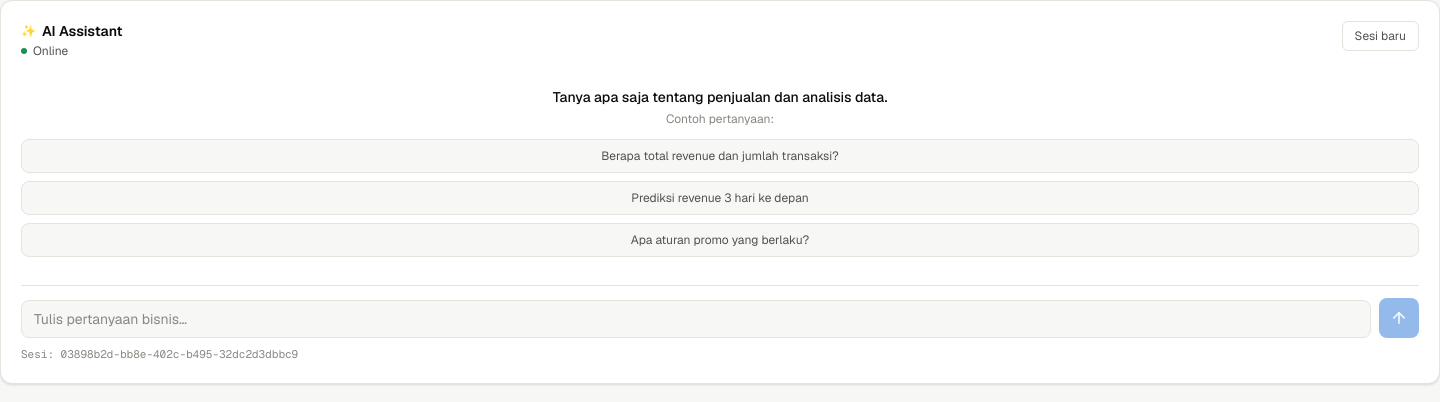
it: ChatPanel › error 503 llm_not_configured tampil sebagai alert, thread tetap
In the field named "Pertanyaan untuk AI assistant": (696, 319) [21,300,1371,338], type "total revenue?"
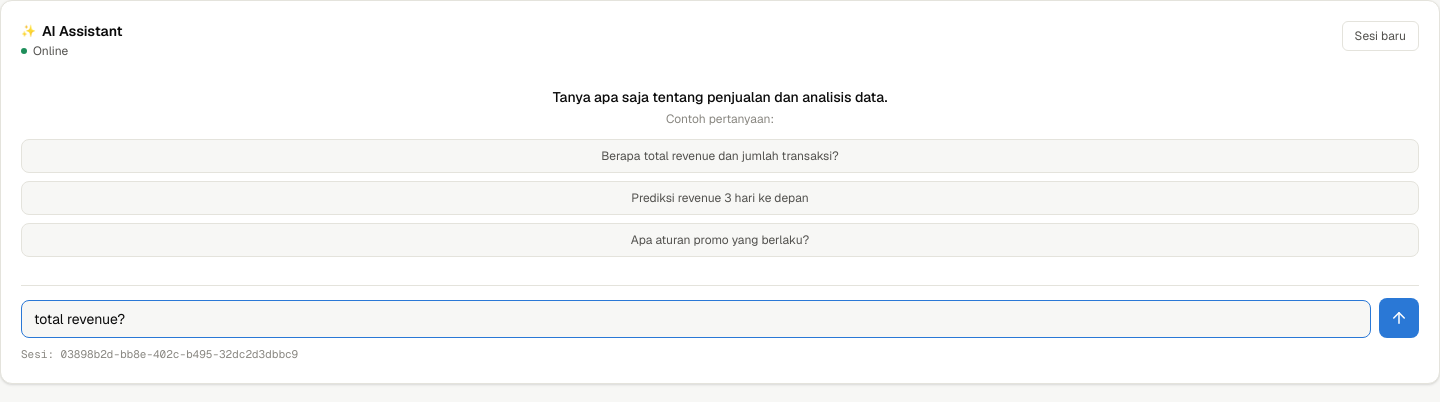
Click the button named "Kirim": (1399, 318) [1379,298,1419,338]
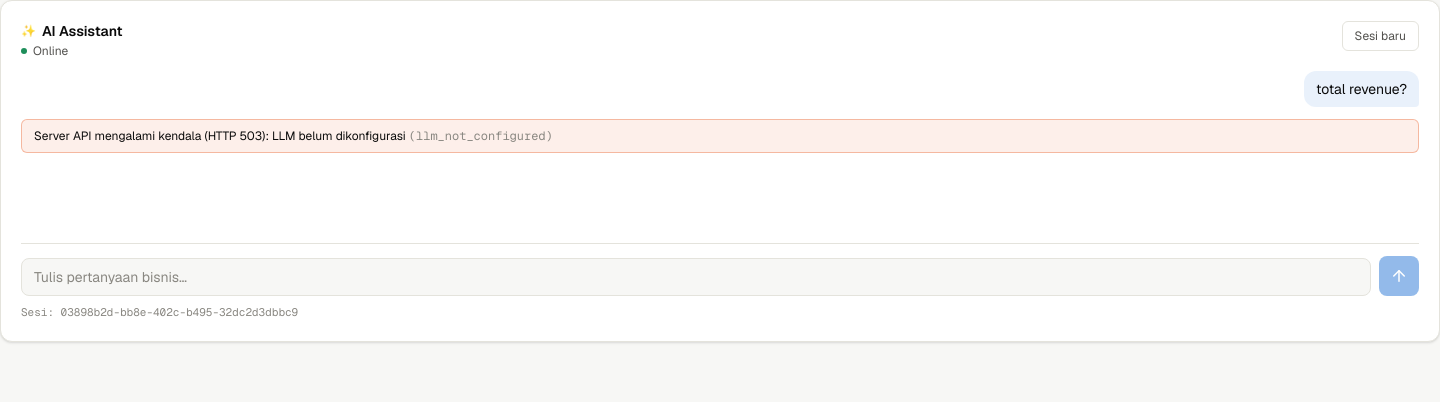
Expected: the message shows "LLM belum dikonfigurasi", [34,128,406,144]
Expected: the message shows "llm_not_configured", [416,128,546,144]
Expected: the text "total revenue?" is shown, [1316,79,1407,99]
